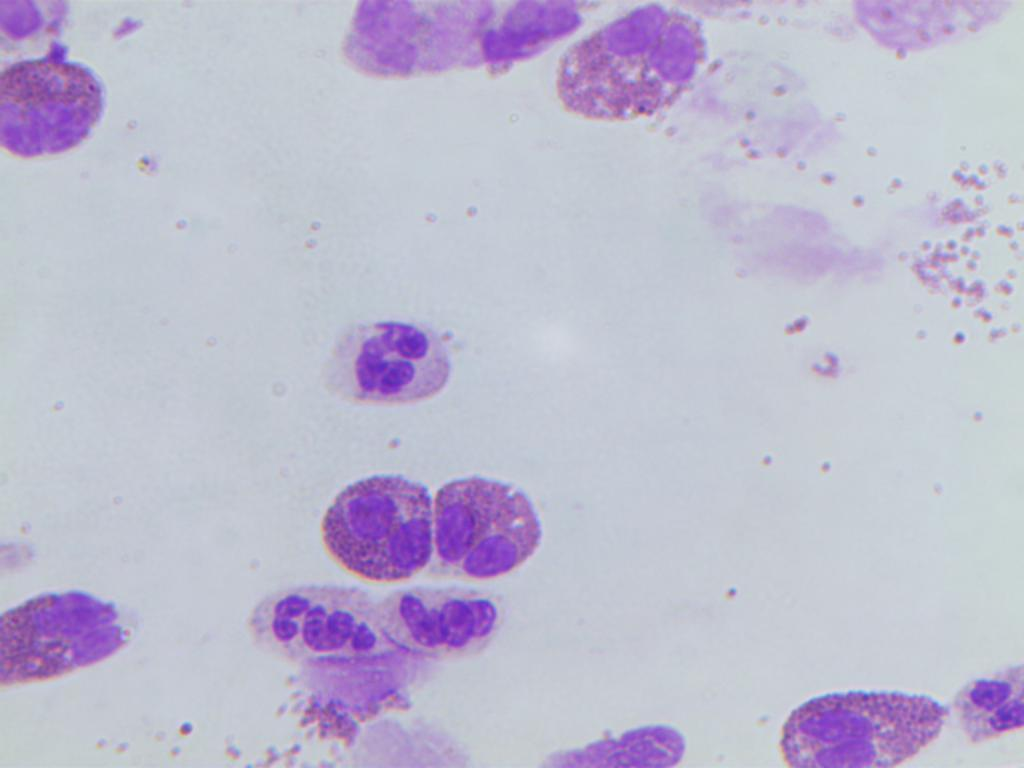artifact: (481, 0, 581, 97), (532, 720, 703, 768), (292, 689, 423, 744)
eosinophil: (553, 1, 714, 133), (759, 675, 947, 767), (0, 567, 136, 693), (304, 466, 438, 584), (0, 56, 137, 168), (435, 455, 550, 583)
neutrophil: (311, 0, 474, 98), (381, 575, 556, 656), (221, 576, 396, 657), (329, 316, 470, 407), (957, 666, 1023, 745), (0, 0, 77, 47)
